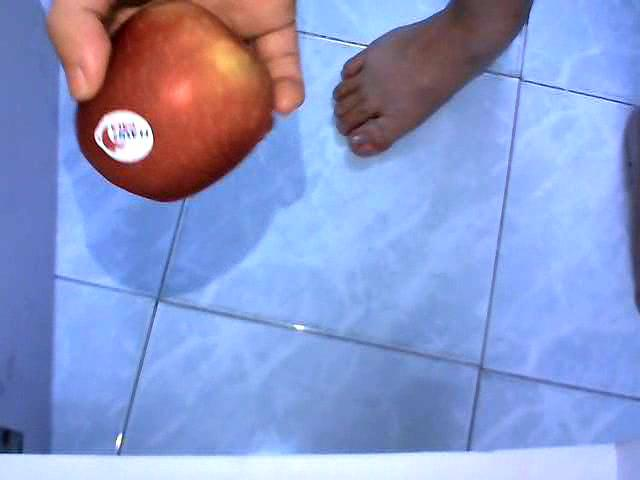apple: (72, 3, 272, 201)
